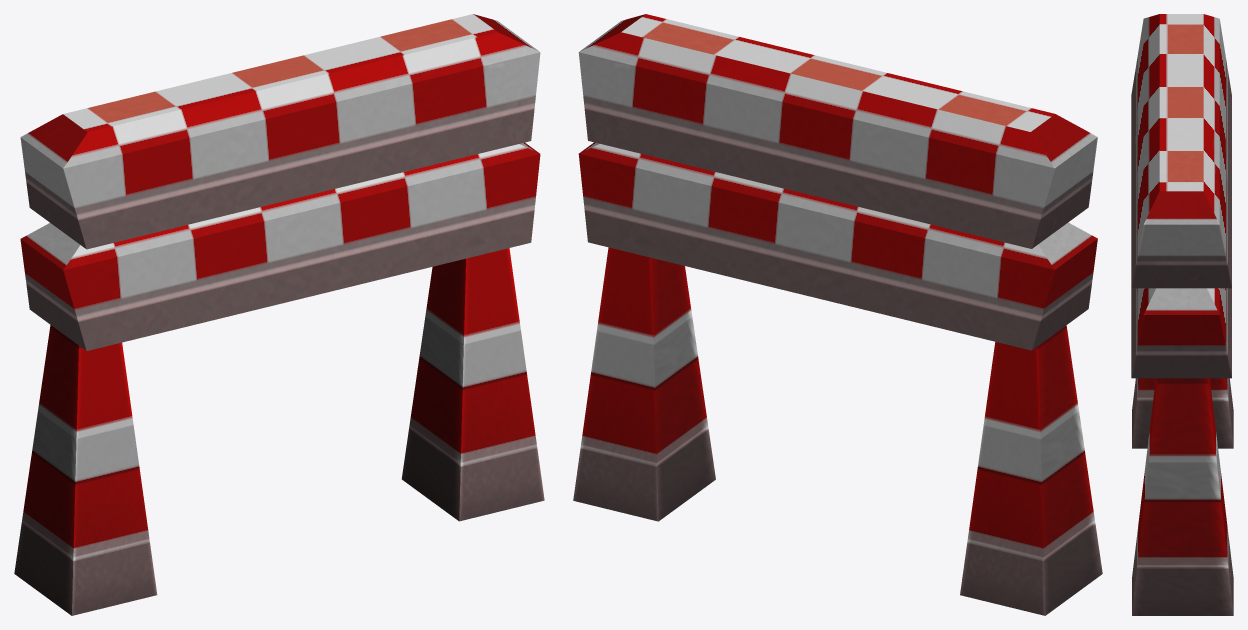
File: Block_Gao.FBX
3 views of the same model, side by side, from view 1: azimuth 30°, elevation 25°; view 2: azimuth 150°, elevation 25°; view 3: azimuth 270°, elevation 25° (orthographic). The views are drawn at different scales.
Parts seen in each view (by area): view 1: Block_Gao; view 2: Block_Gao; view 3: Block_Gao.
Part boxes in pixels (x1,y1,x2,y2): Block_Gao: (14,14,544,615); Block_Gao: (573,14,1102,615); Block_Gao: (1131,14,1233,615).
Size of the model in its own units: 171 by 159 by 36.02.
